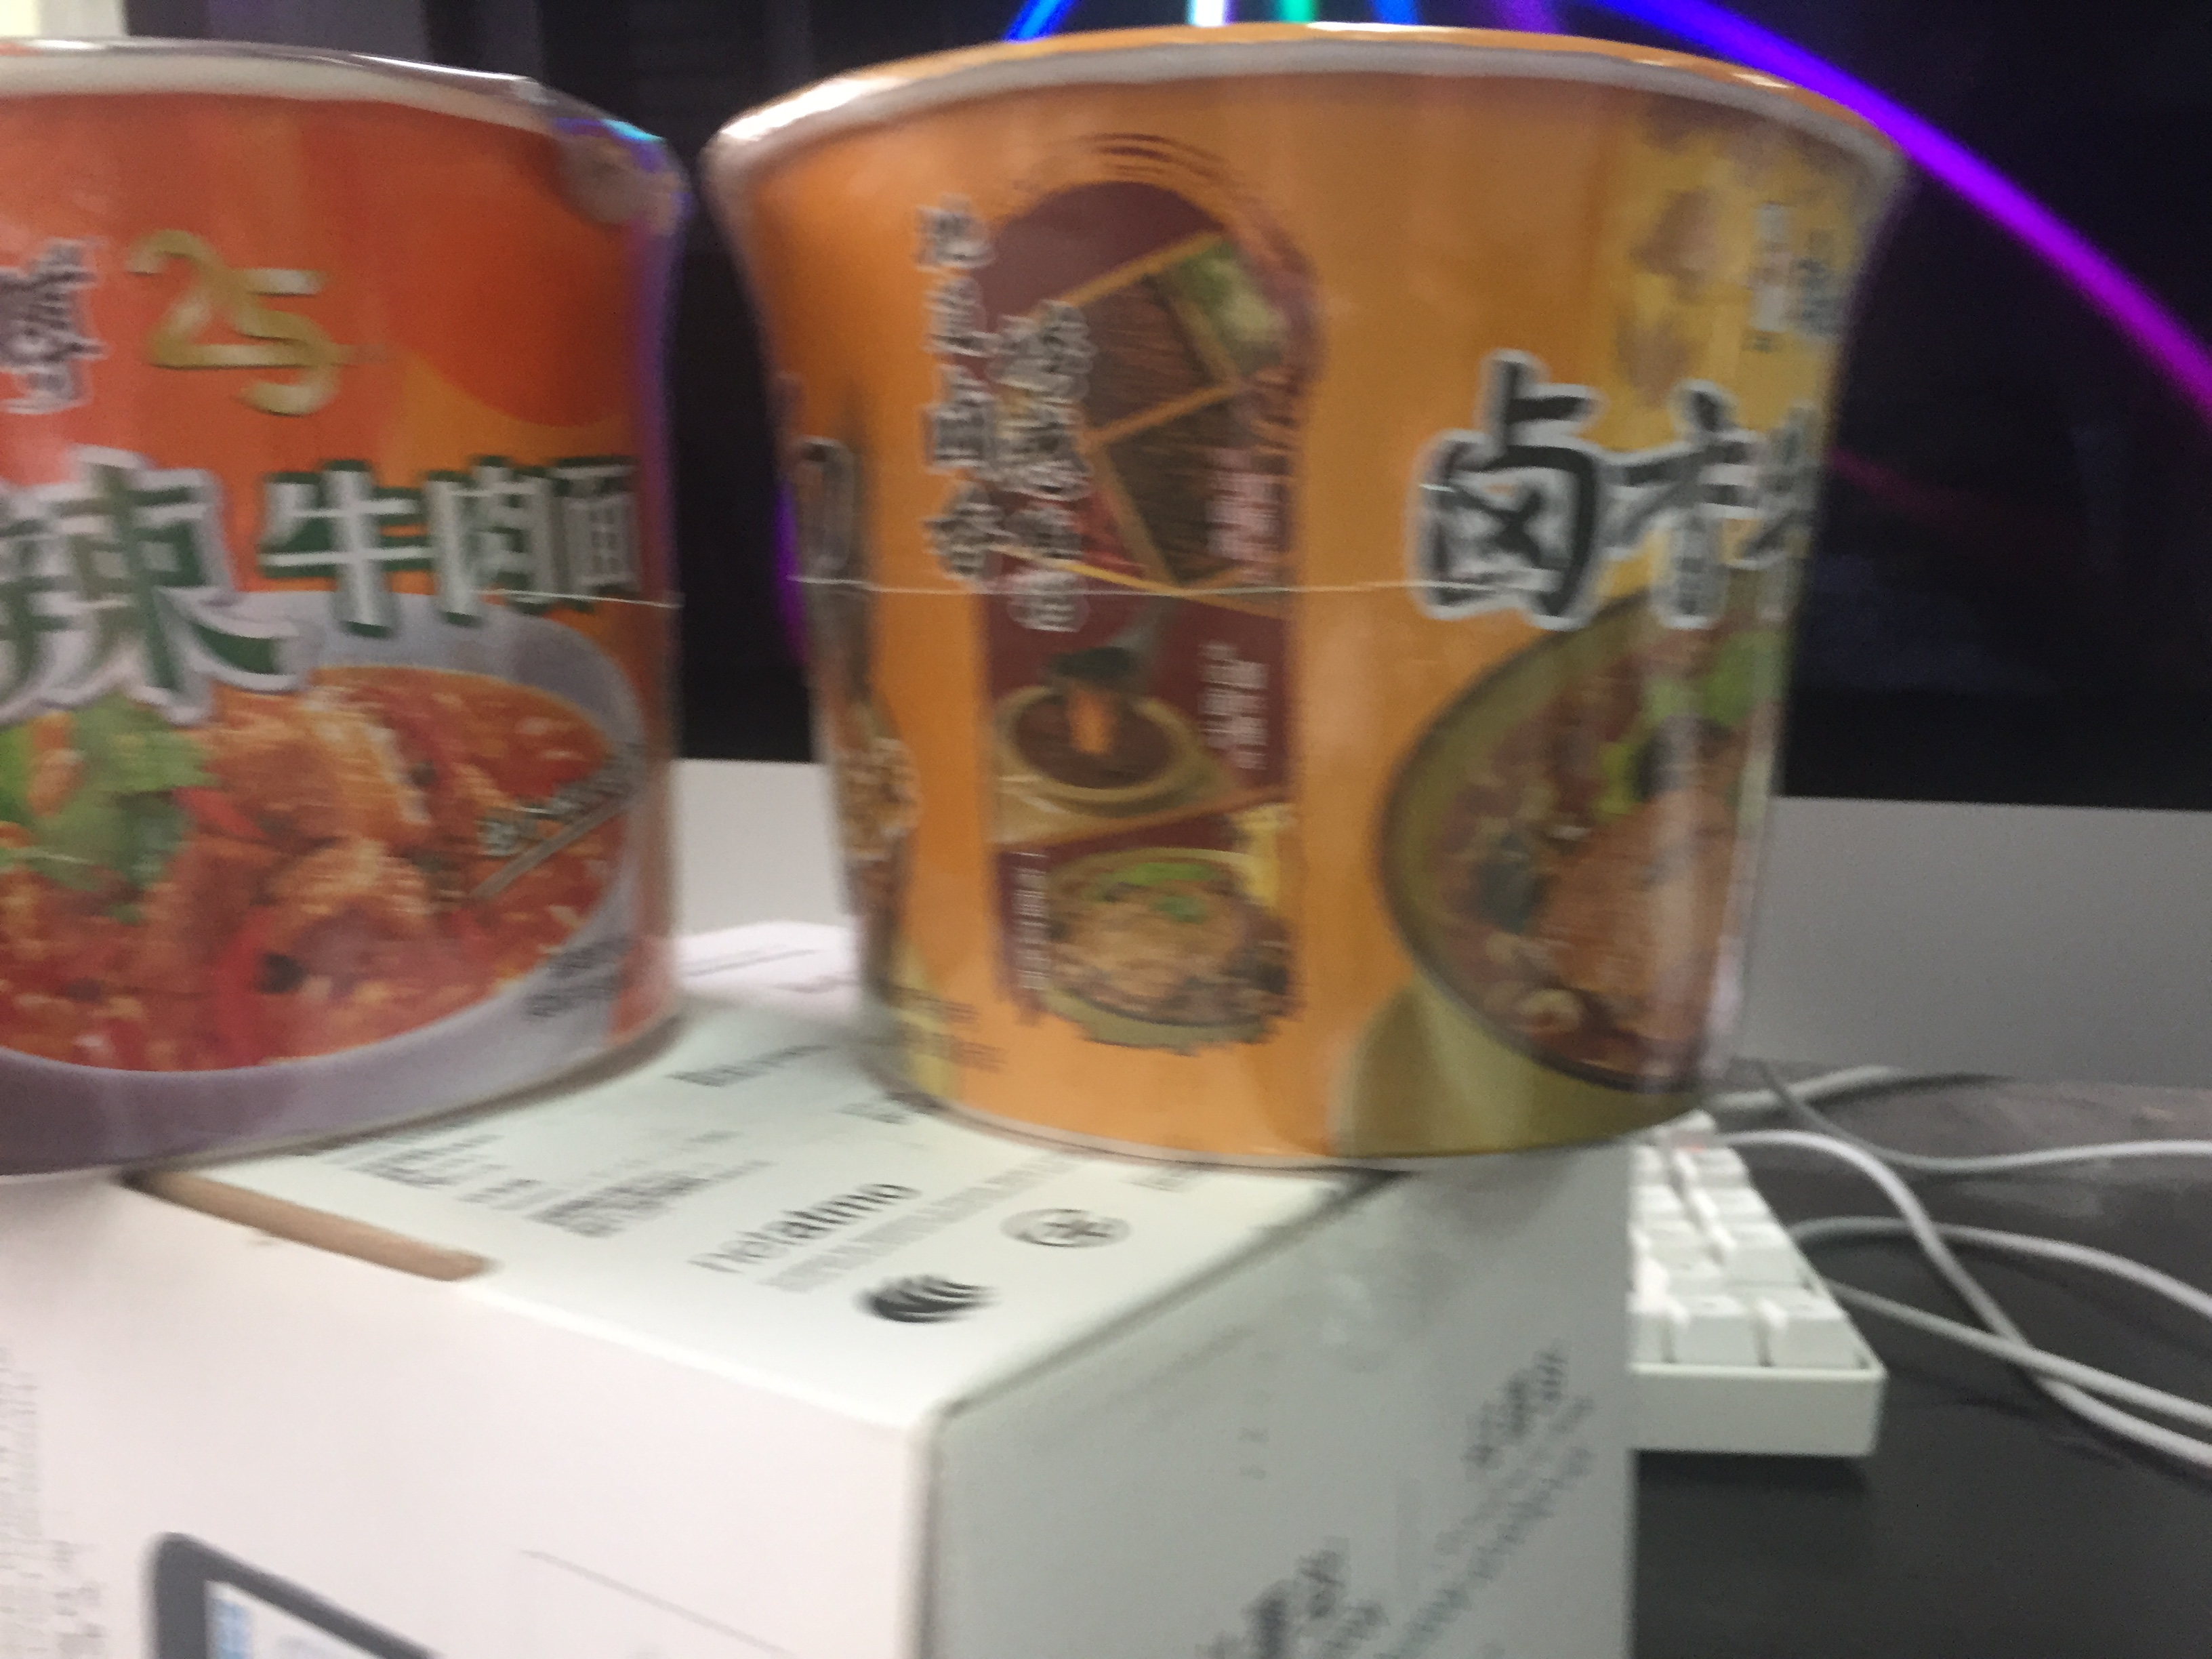luxiang: (697, 24, 1916, 1178)
xiangla: (0, 35, 691, 1190)
